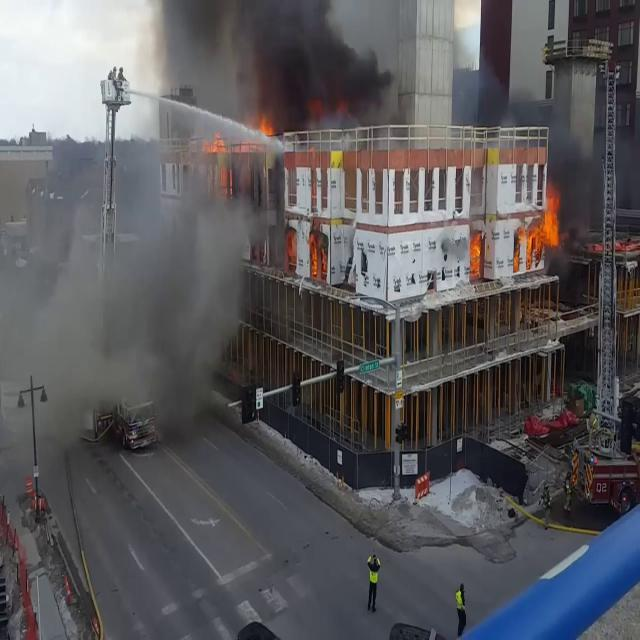Fire: (514, 181, 563, 268), (468, 228, 484, 278)
Smoke: (2, 1, 276, 434), (204, 0, 392, 132), (550, 68, 640, 248)
